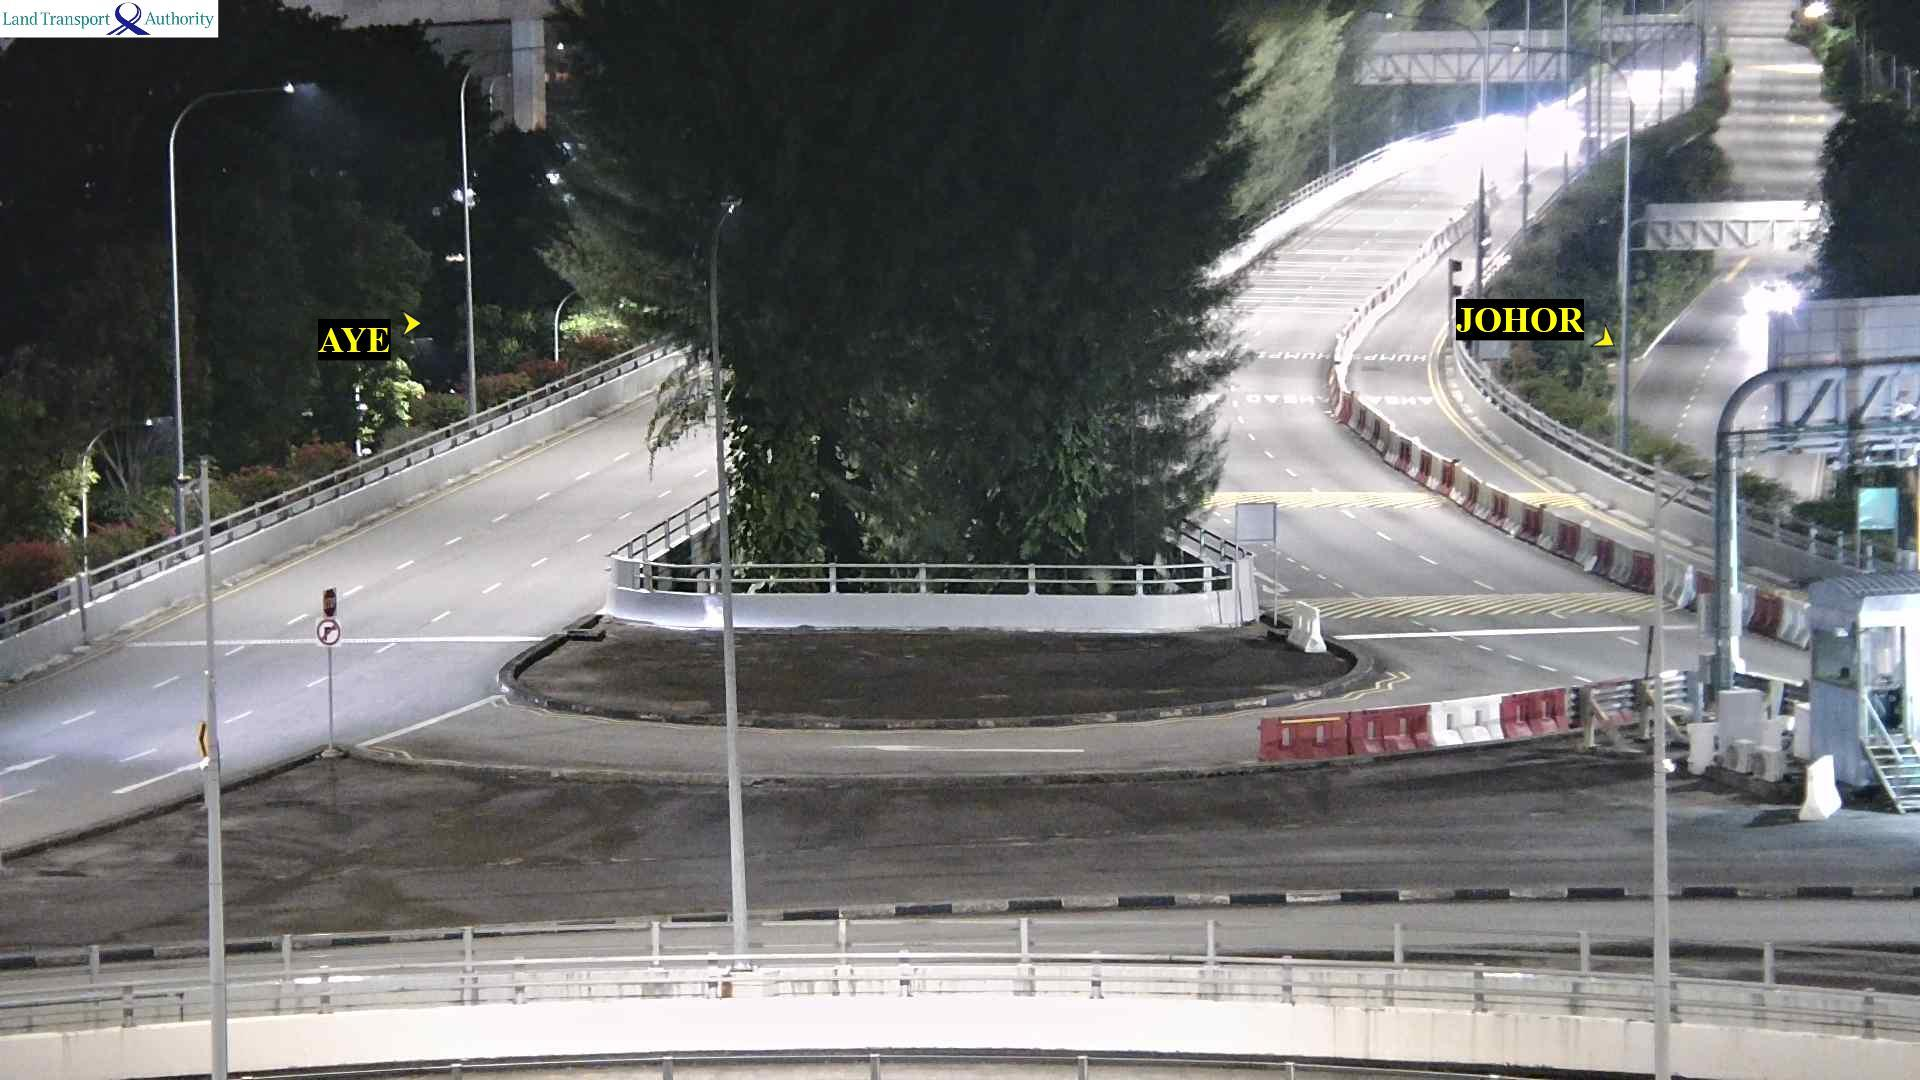vehicle-secondlink-johor: (1478, 120, 1520, 159)
